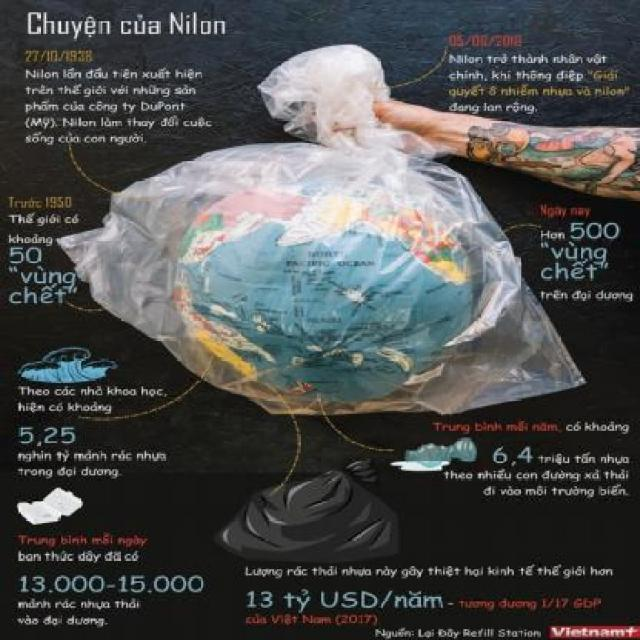plastic bag: (55, 74, 583, 429)
